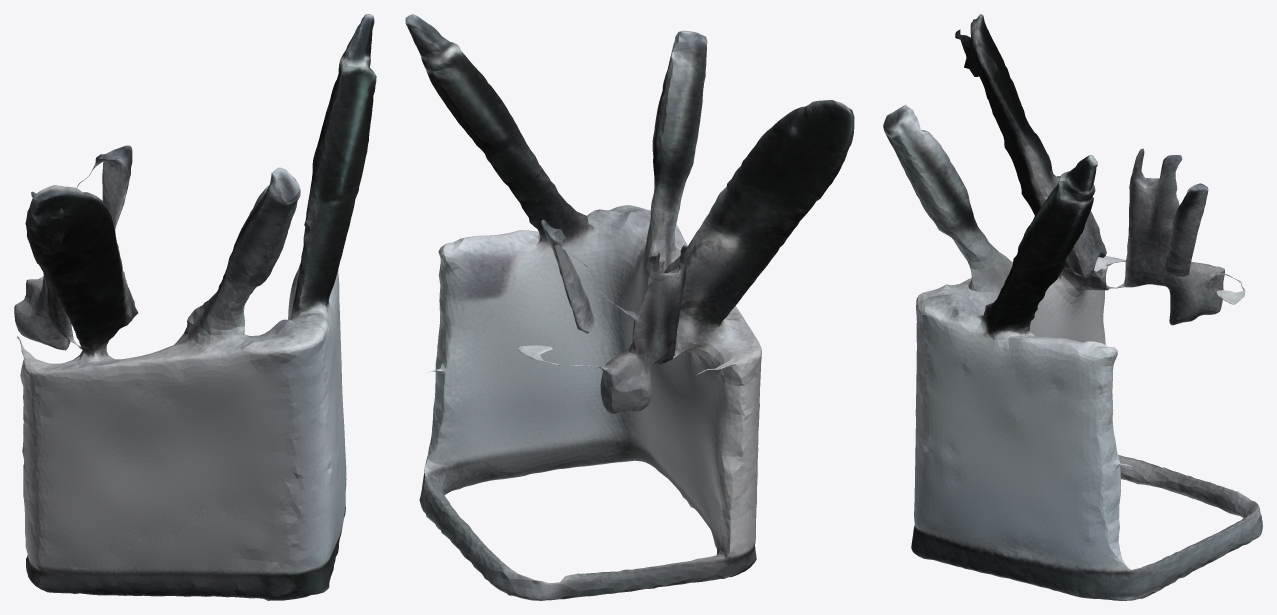
The model's file is rat copy.glb.
3 renders of one model, left to right at view 1: azimuth 30°, elevation 25°; view 2: azimuth 150°, elevation 25°; view 3: azimuth 270°, elevation 25°, orthographic. The views are drawn at different scales.
Bounding box in the file's own units: 0.7314 × 0.8538 × 0.6218.
Materials: 1 (1 with a texture image).
